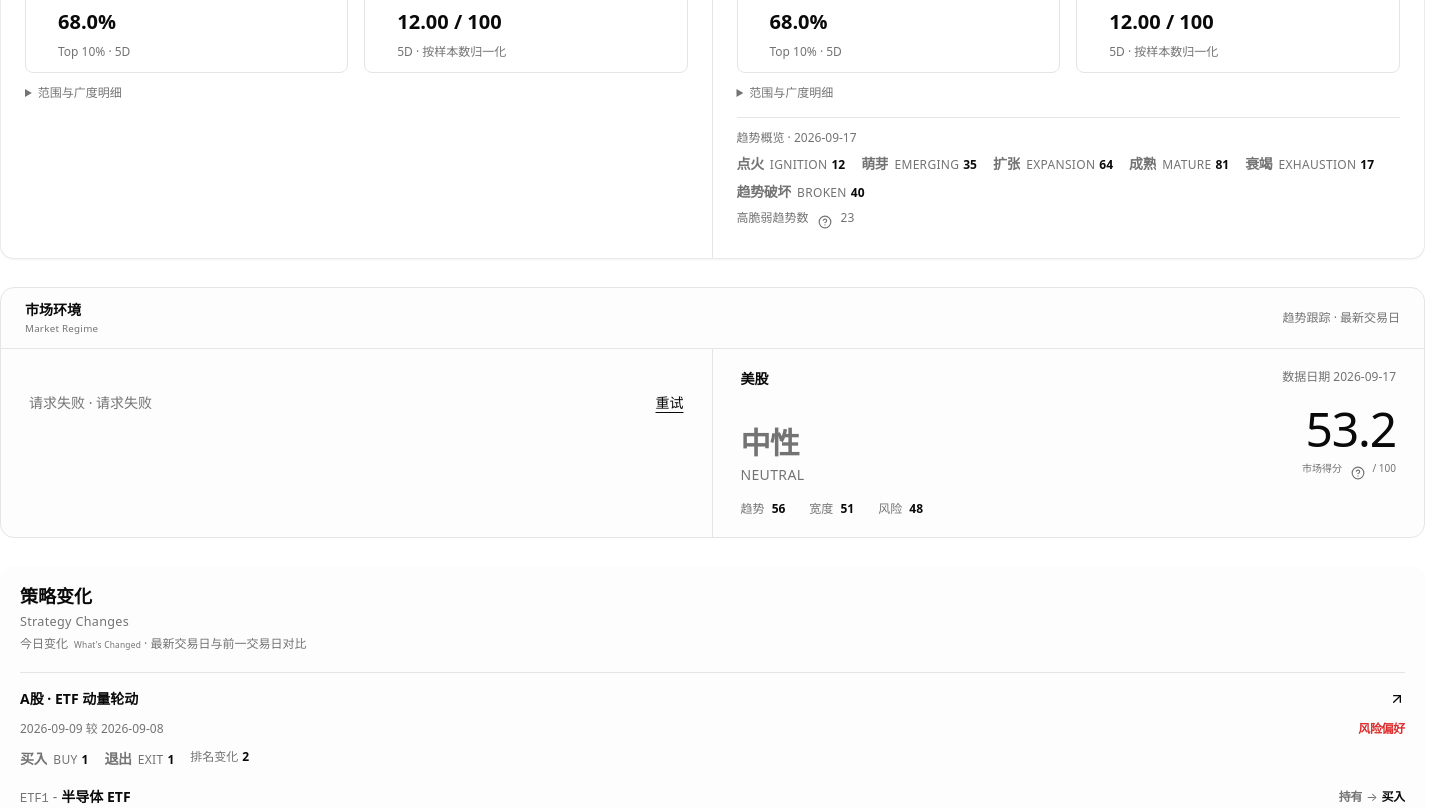
it: public market dashboard › isolates and retries a failed CN Trend resource shared by regime and changes
(page scrolled)
Expected: the element named "市场环境" shows "请求失败", [29, 393, 152, 412]
Expected: the element named "市场环境" shows "53.2", [1306, 396, 1396, 461]
Step 1. Click the button "重试" → (670, 403), box [656, 393, 684, 413]
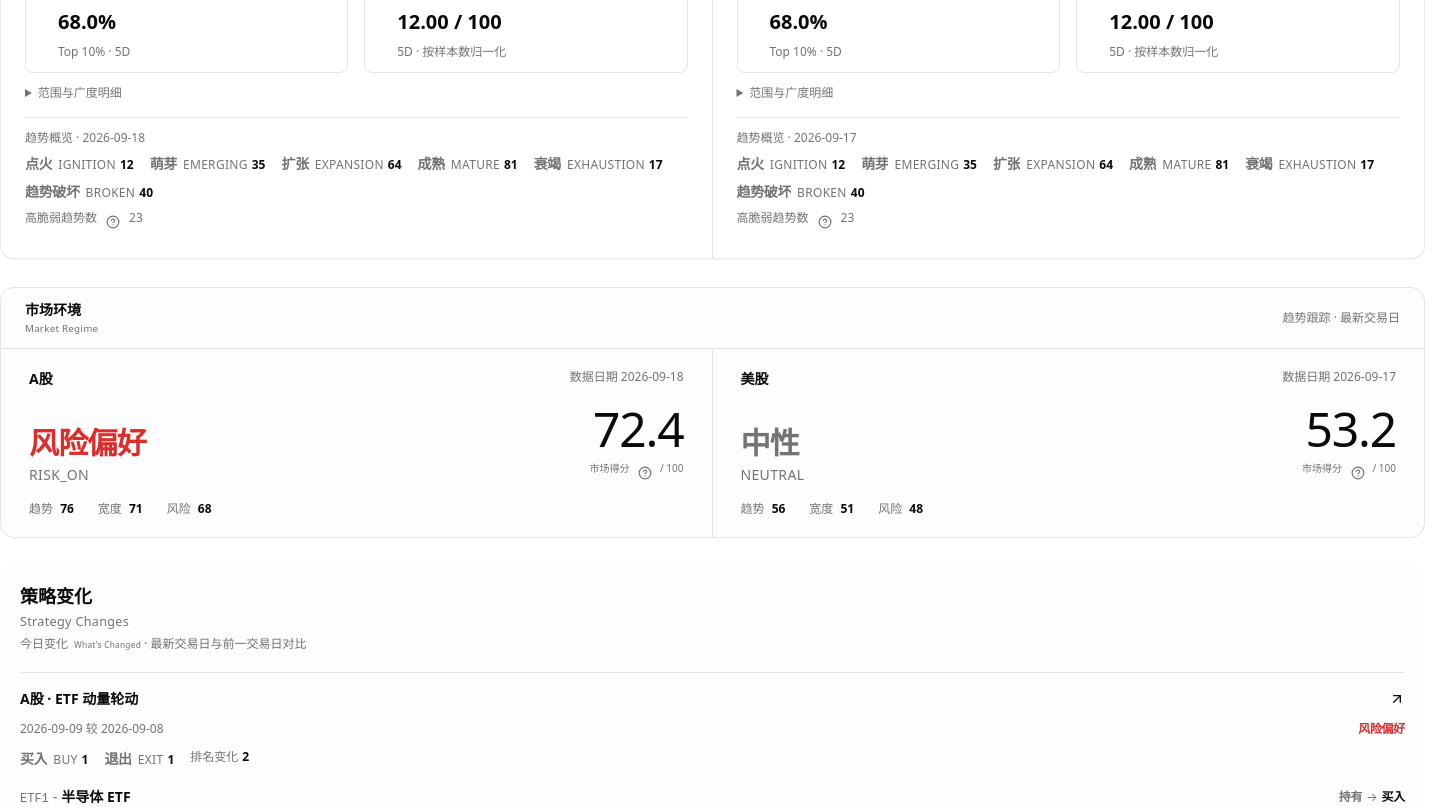
Expected: the text named "市场环境" no longer shows "请求失败"
Expected: the text named "策略变化" no longer shows "请求失败"
Expected: the element named "市场环境" shows "72.4", [593, 396, 684, 461]
